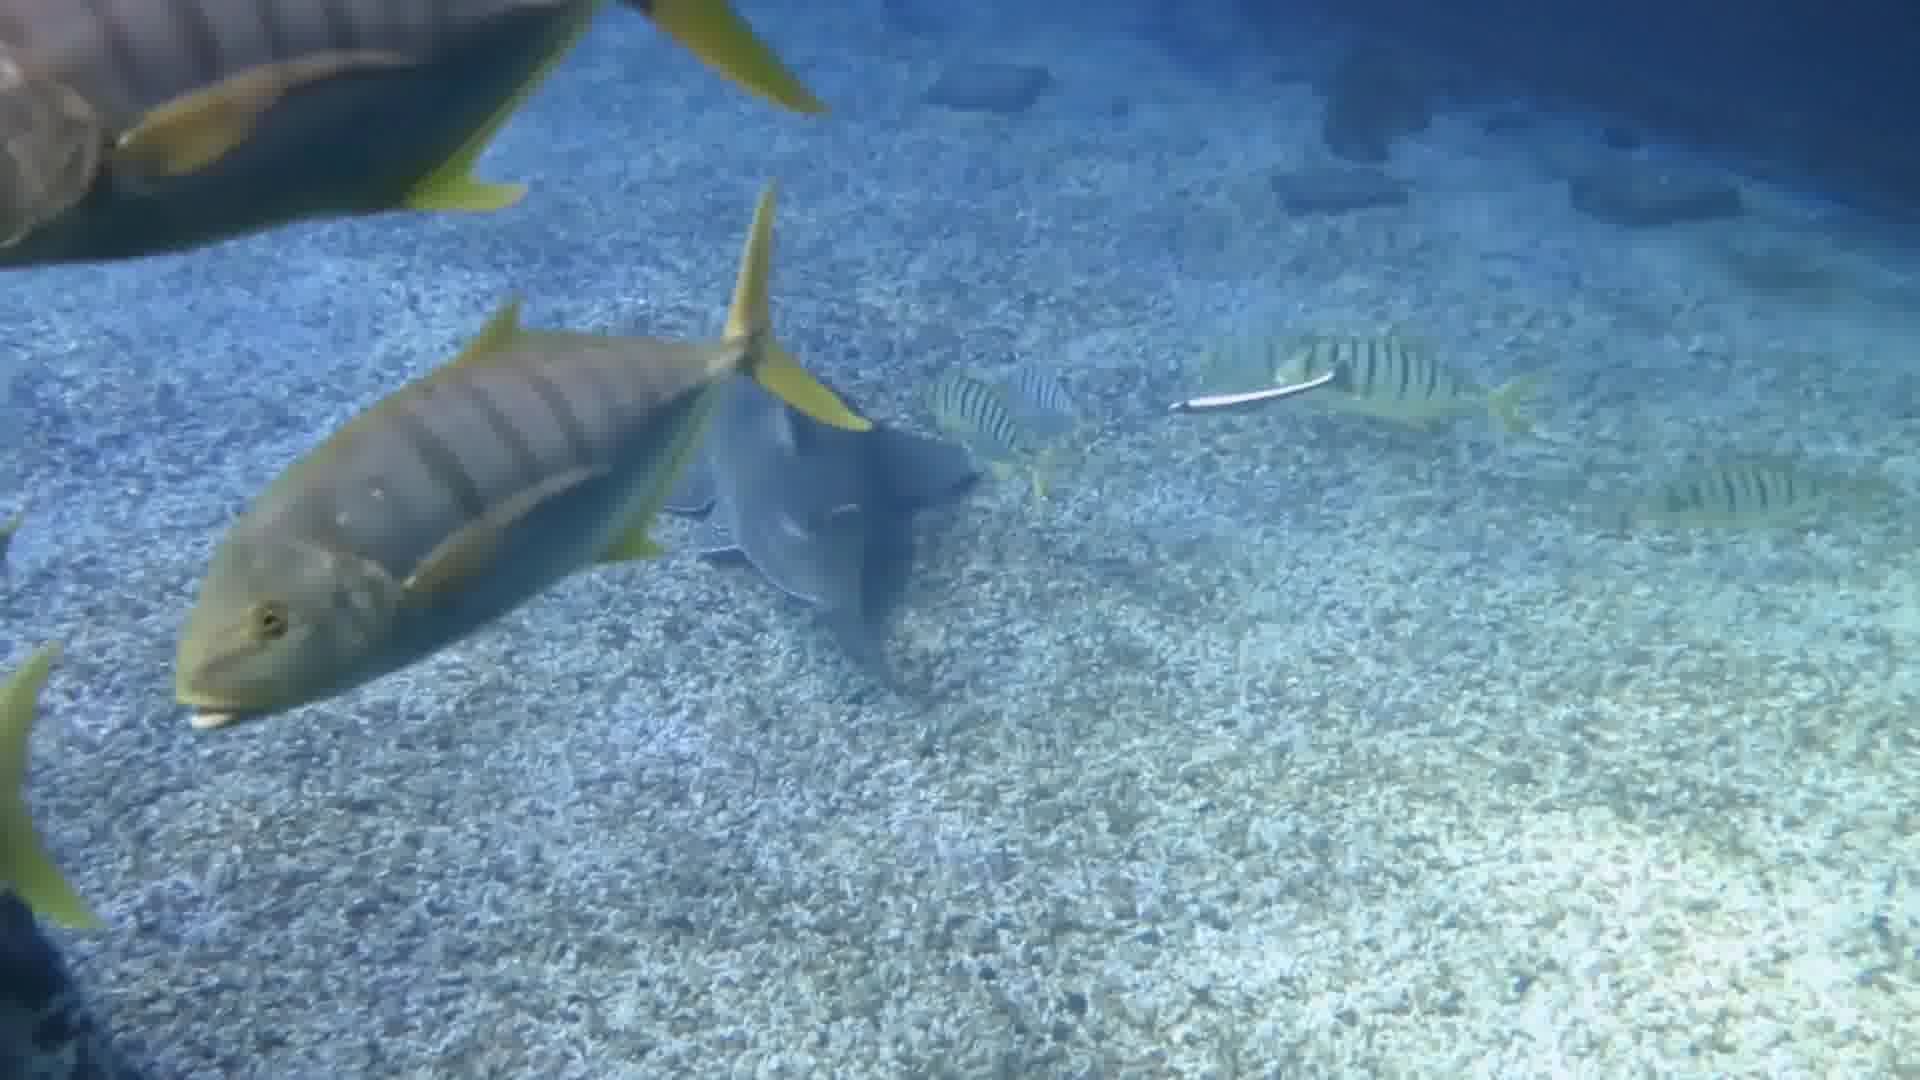Rhychobatus djiddensis: (663, 268, 992, 712)
